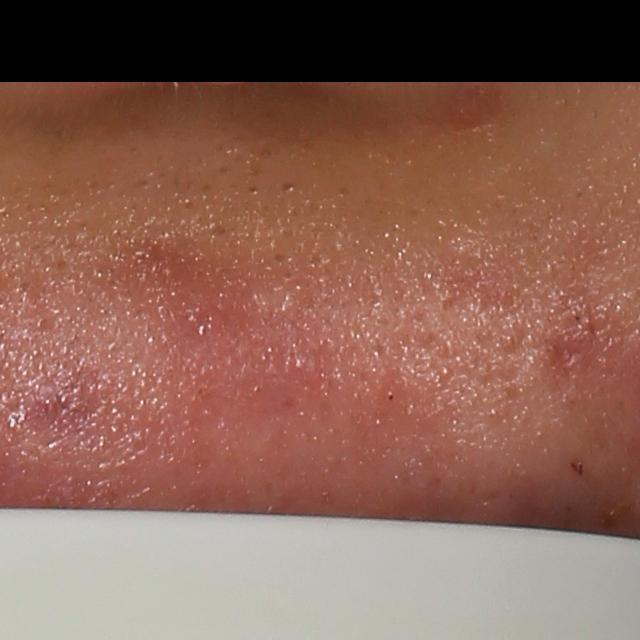comedo: (207, 221, 226, 242), (268, 249, 288, 267), (247, 185, 260, 196)
